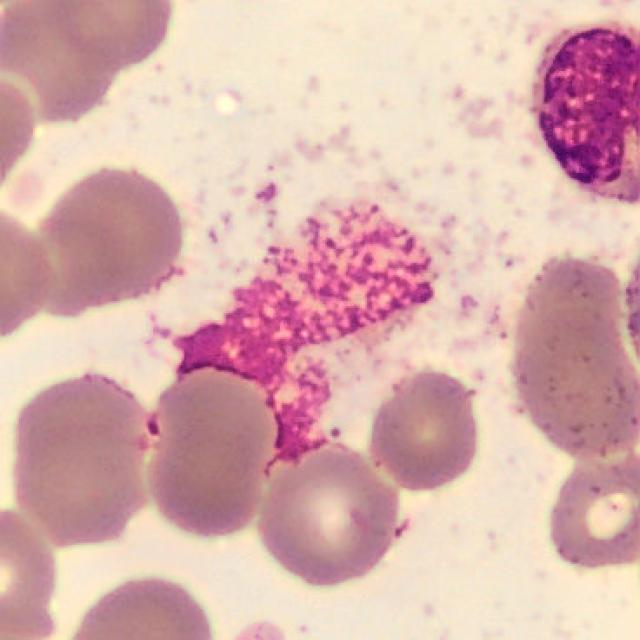Artefato: (179, 206, 430, 458)
